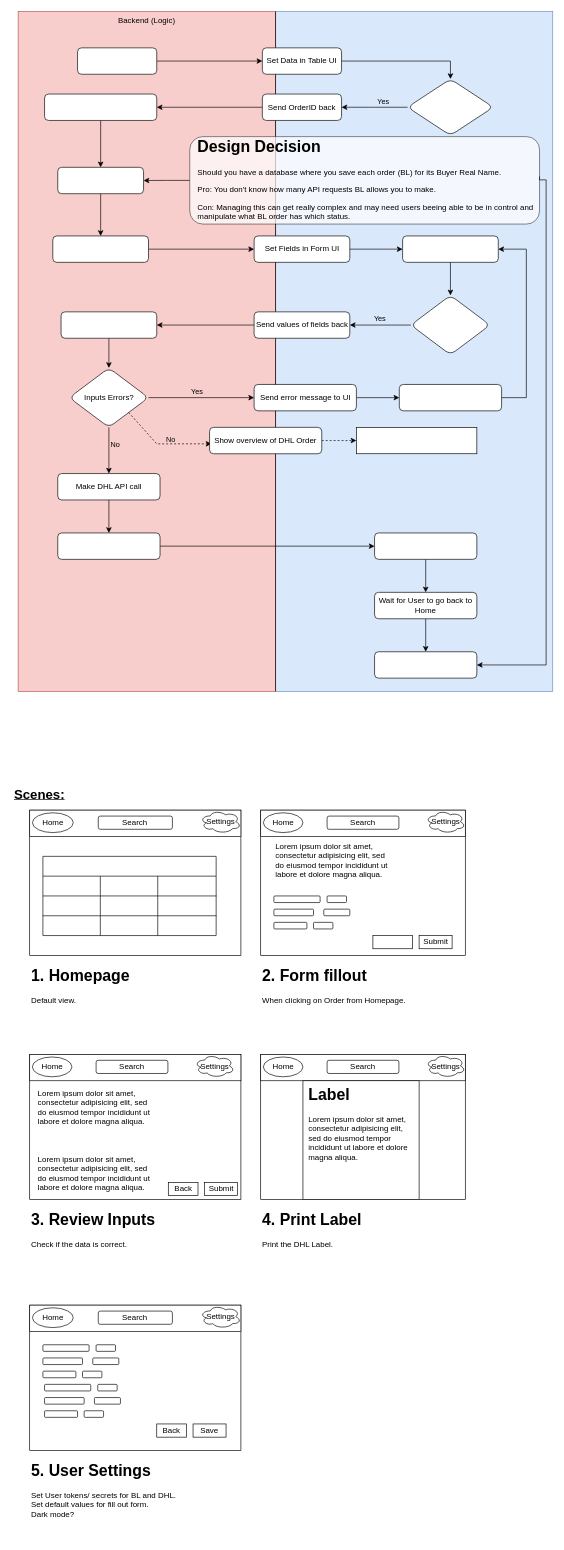
Image size: 564x1550. Some labels were removed from this diagram. The box of each missing label's shape, as (x1, y1, x2, y2) in pixels:
(optional validation button to see if errors exist before purchasing): (356, 427, 477, 454)
(Save BL Order in DB): (57, 167, 144, 194)
(User changes values): (402, 235, 498, 262)
Display Error: (399, 384, 502, 411)
Display Label PDF: (374, 532, 477, 559)
Frontend (UI): (275, 11, 553, 691)
GetData of selected BL order: (44, 93, 157, 120)
GetOrders (BL): (77, 47, 157, 74)
Order selected by User?: (407, 78, 493, 135)
Orders (BL): (42, 856, 216, 936)
Parse the address with LibPostal: (52, 235, 148, 262)
Save Label PDF: (57, 532, 160, 559)
Show button to show newly created Label PDF: (374, 651, 477, 678)
Submit button hit?: (410, 295, 490, 355)
Validate: (372, 935, 412, 949)
Validate Inputs: (60, 311, 157, 338)
